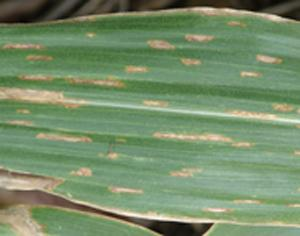Corn Gray leaf spot: (1, 8, 300, 225)
